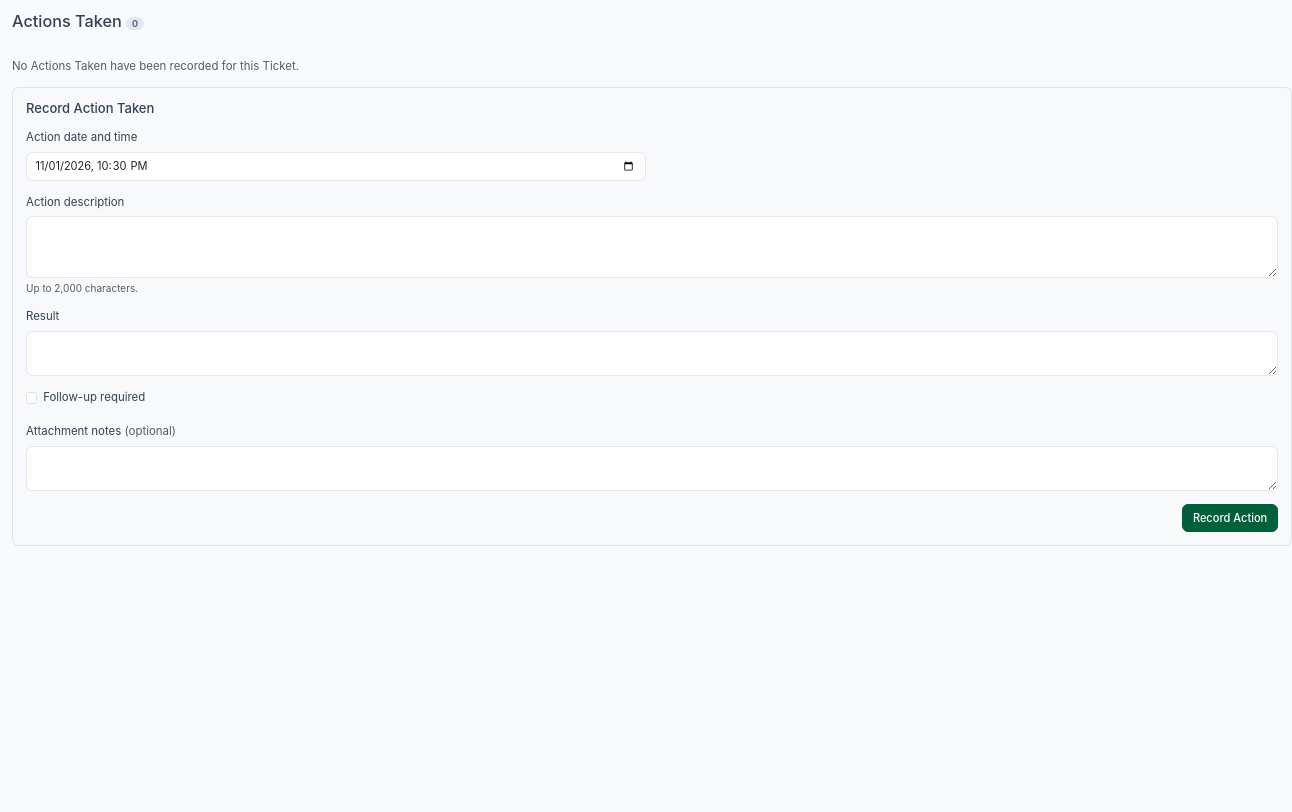
Test: Lab 4 Actions Taken UI › keeps entered values after recoverable failure and blocks a repeated submit
Type "Fixed the issue" into the text box labelled "Action description" at point(652, 247), box [26, 216, 1278, 278]
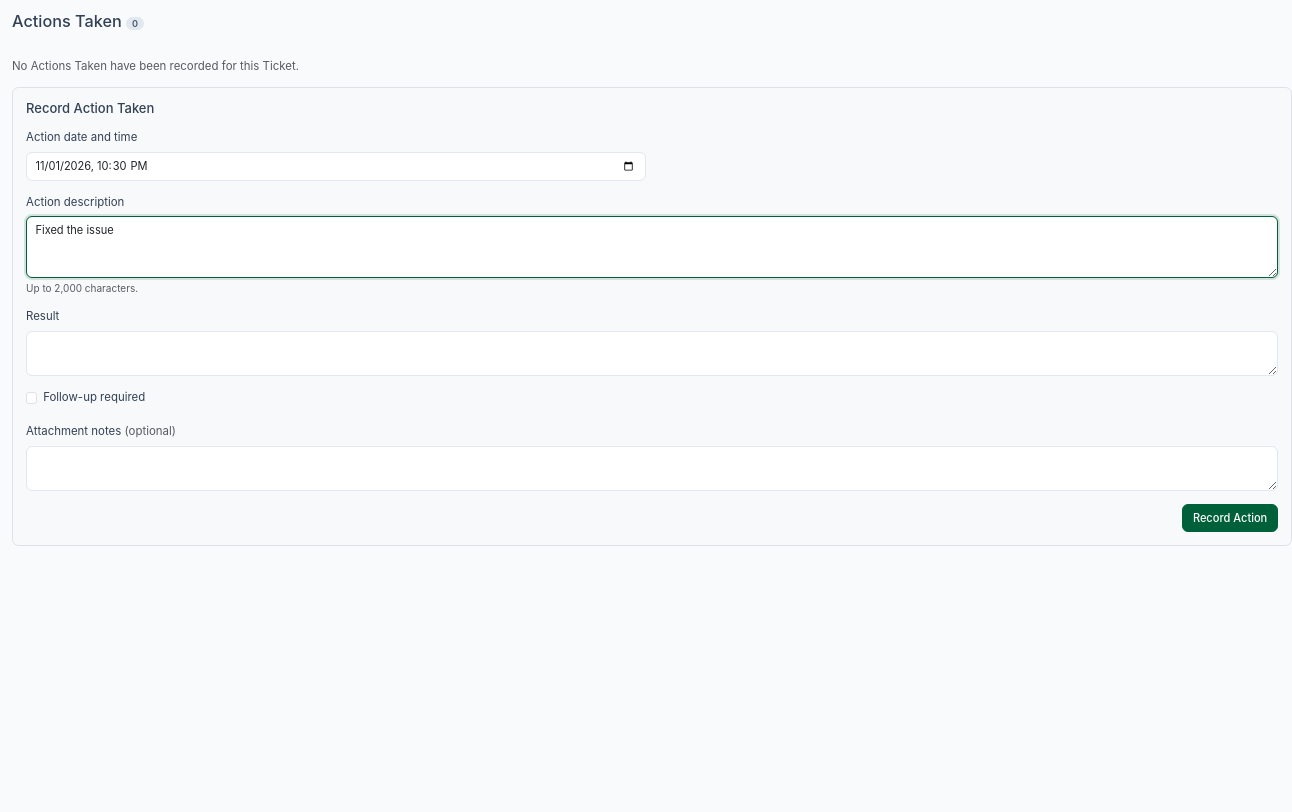
Type "Verified" into the text box labelled "Result" at point(652, 354), box [26, 331, 1278, 376]
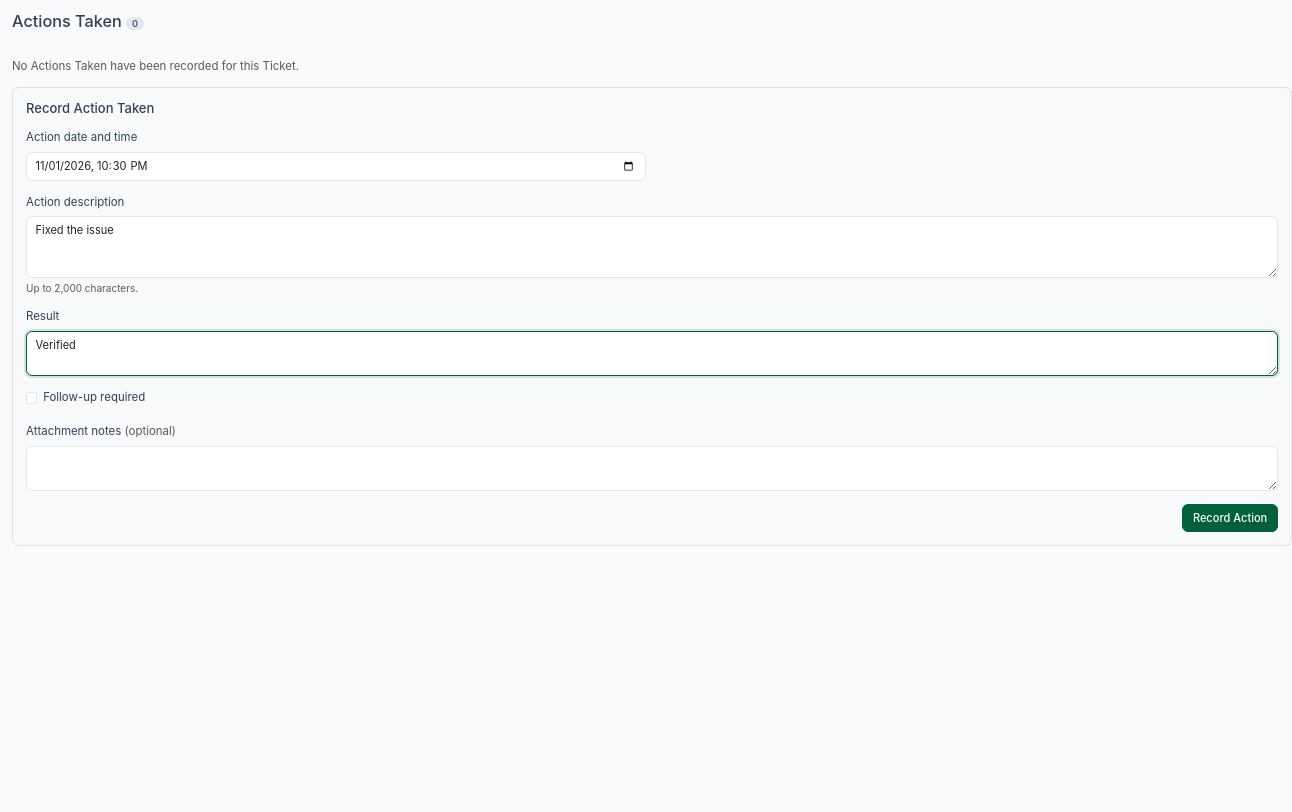
Click the button "Record Action" at point(1230, 518), box [1182, 504, 1278, 532]
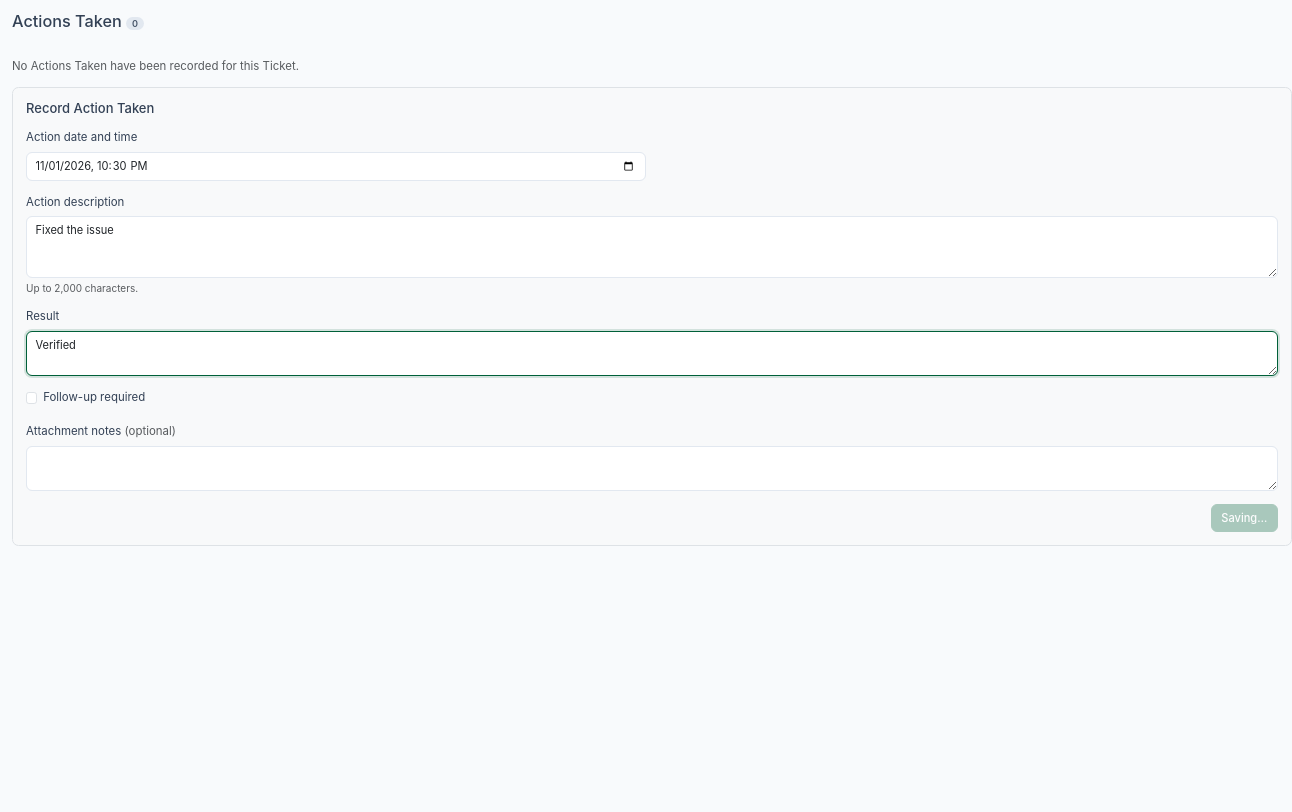
Click the button named "Record Action" at point(1244, 518), box [1211, 504, 1278, 532]
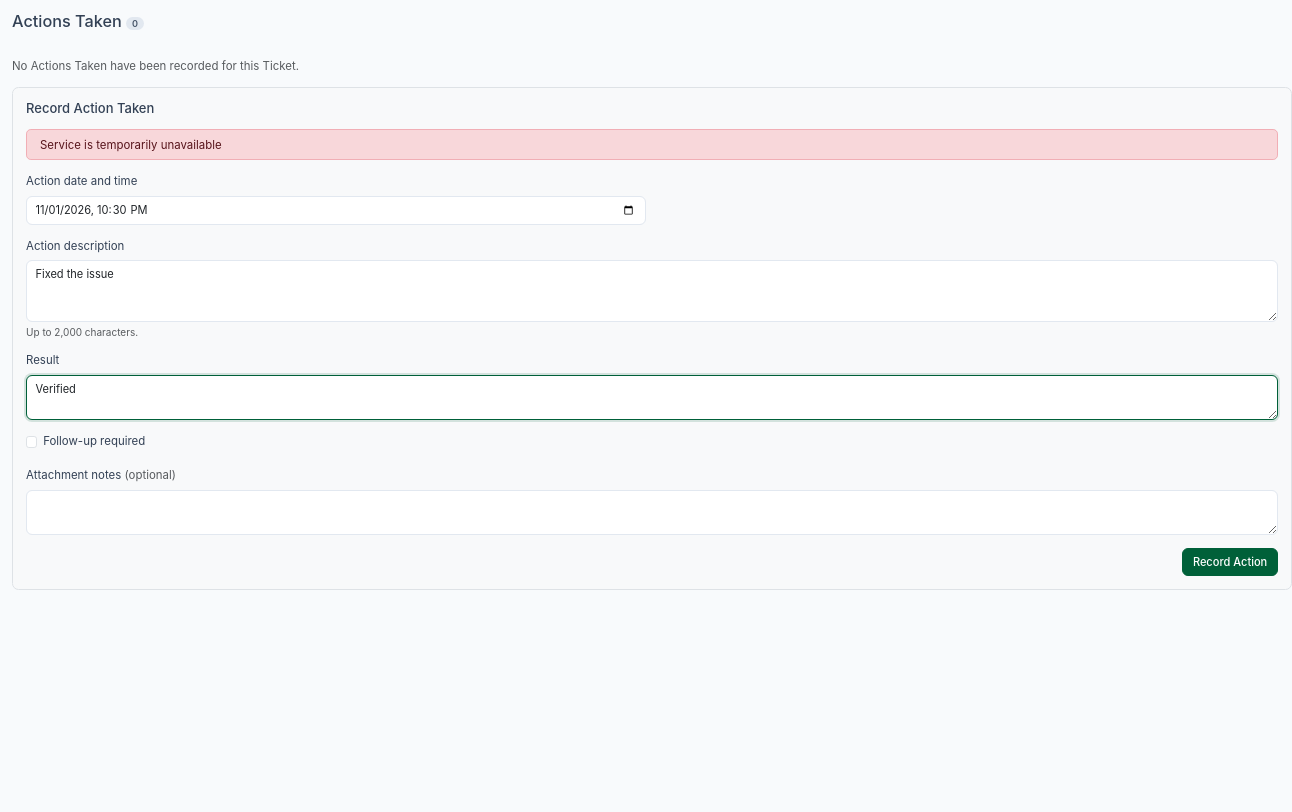
Now the text "Service is temporarily unavailable" is shown, box [26, 129, 1278, 160]
